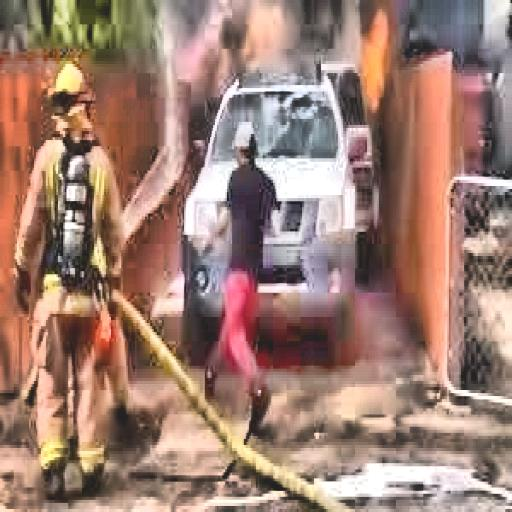fire: (352, 12, 402, 116)
